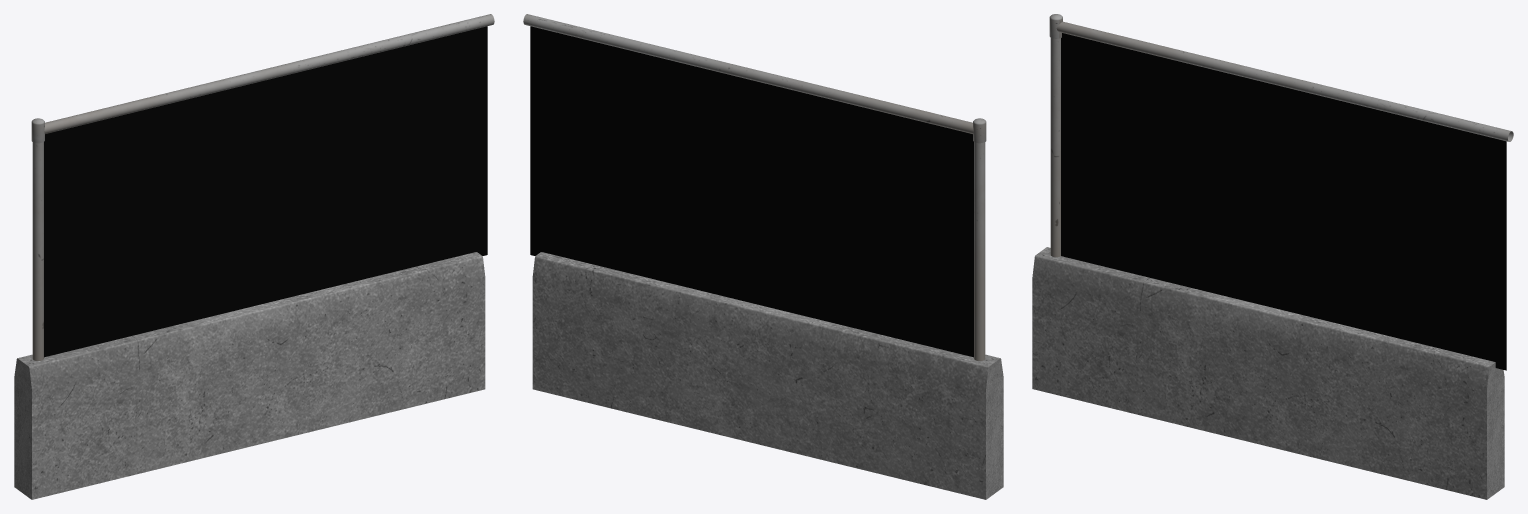
The model's file is chain_wall_straight.fbx.
The picture shows the model from 3 angles, left to right: view 1: azimuth 30°, elevation 25°; view 2: azimuth 150°, elevation 25°; view 3: azimuth 330°, elevation 25°; orthographic projection.
Visible parts, largest first — view 1: chain_wall_straight; view 2: chain_wall_straight; view 3: chain_wall_straight.
Boxes of the visible parts, box(x1,y1,x2,y2) form: chain_wall_straight: box(14, 14, 494, 499); chain_wall_straight: box(523, 14, 1003, 499); chain_wall_straight: box(1032, 14, 1513, 499).
Bounding box in the file's own units: 3.1 × 2.34 × 0.2.
2 materials, 2 textured.
